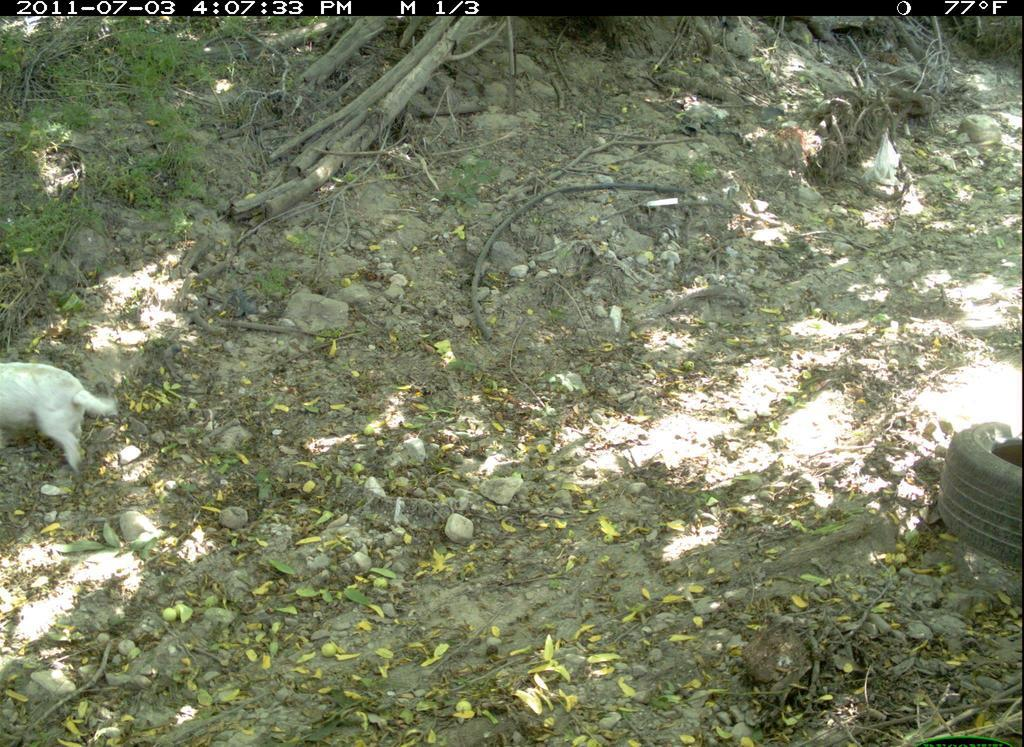dog: (2, 354, 121, 475)
